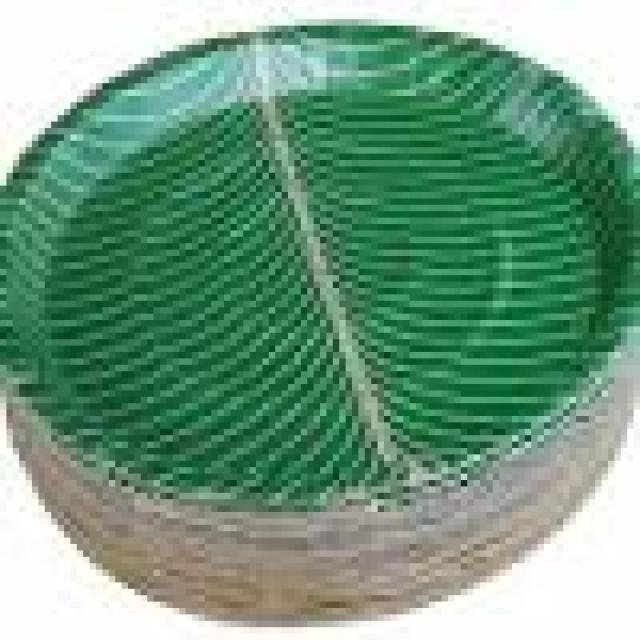PaperCardboard: (0, 25, 640, 516)
